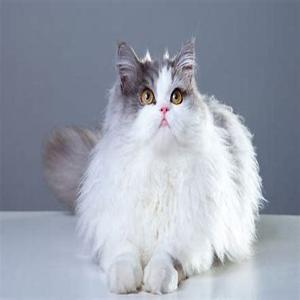cat: (107, 42, 216, 149)
